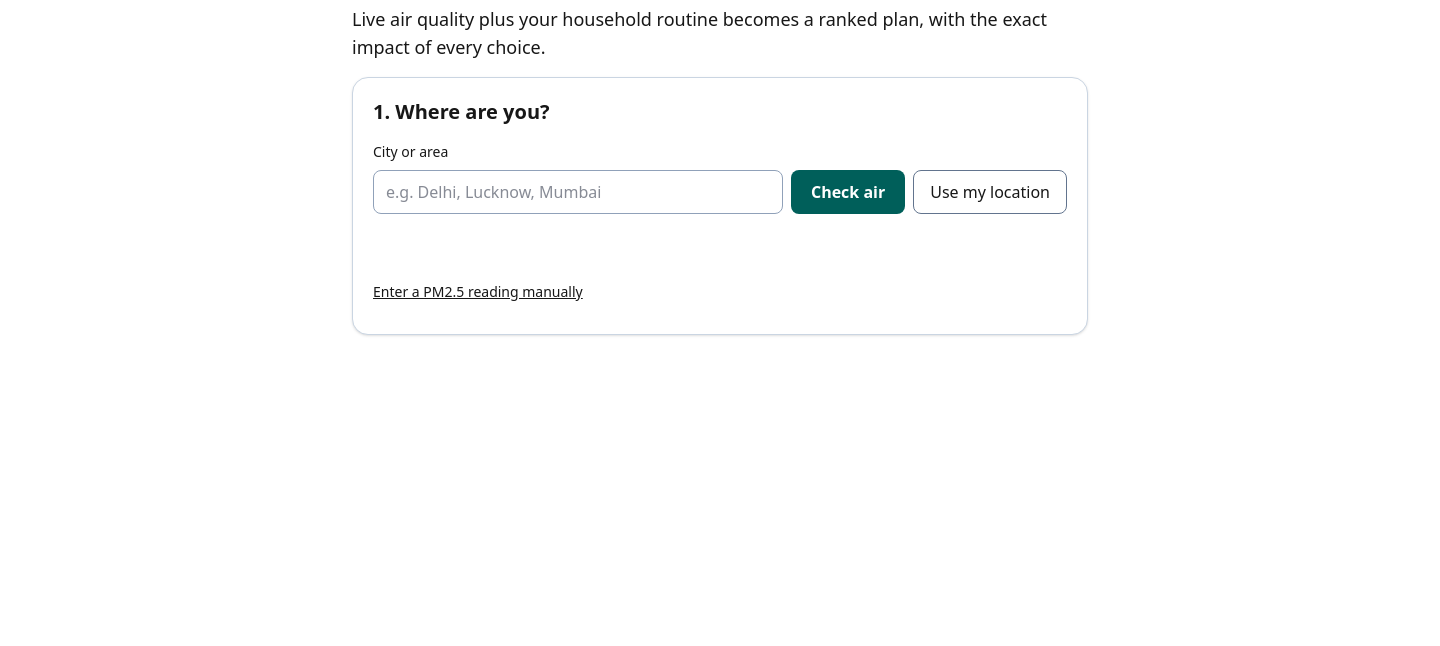
Test: household form › fills the form from a free-text description
Type "Delhi" into the field labelled "City or area" at (578, 192), box [373,170,783,214]
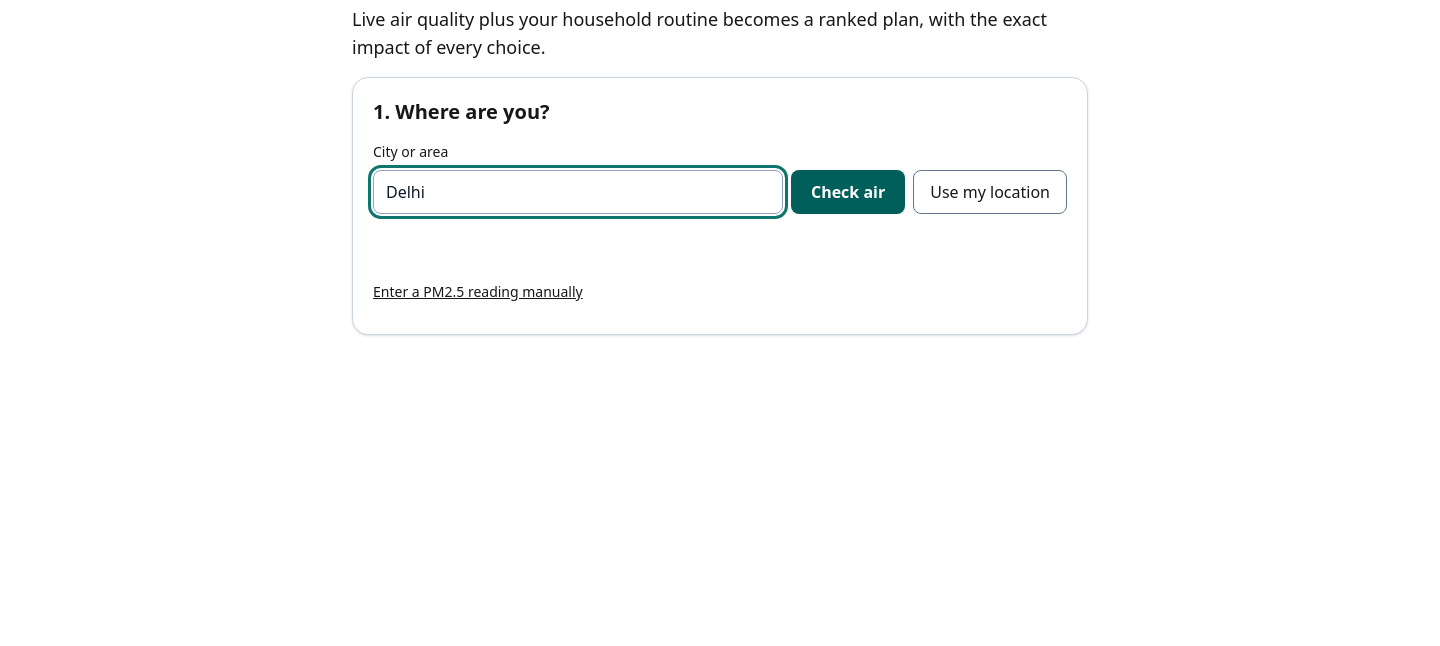
Click the button "Check air" at (848, 192), box [791,170,905,214]
(page scrolled)
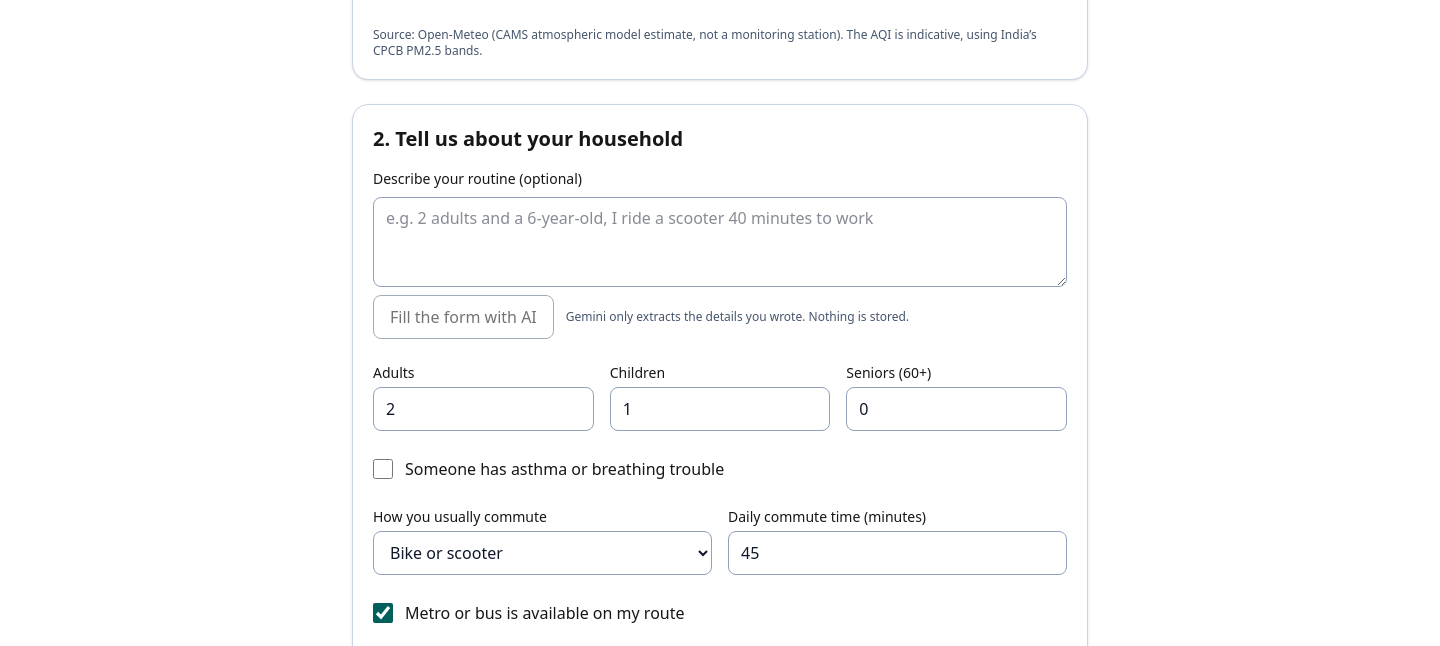
Type "two adults and four kids" into the text box labelled "Describe your routine (optional)" at (720, 242), box [373,196,1067,286]
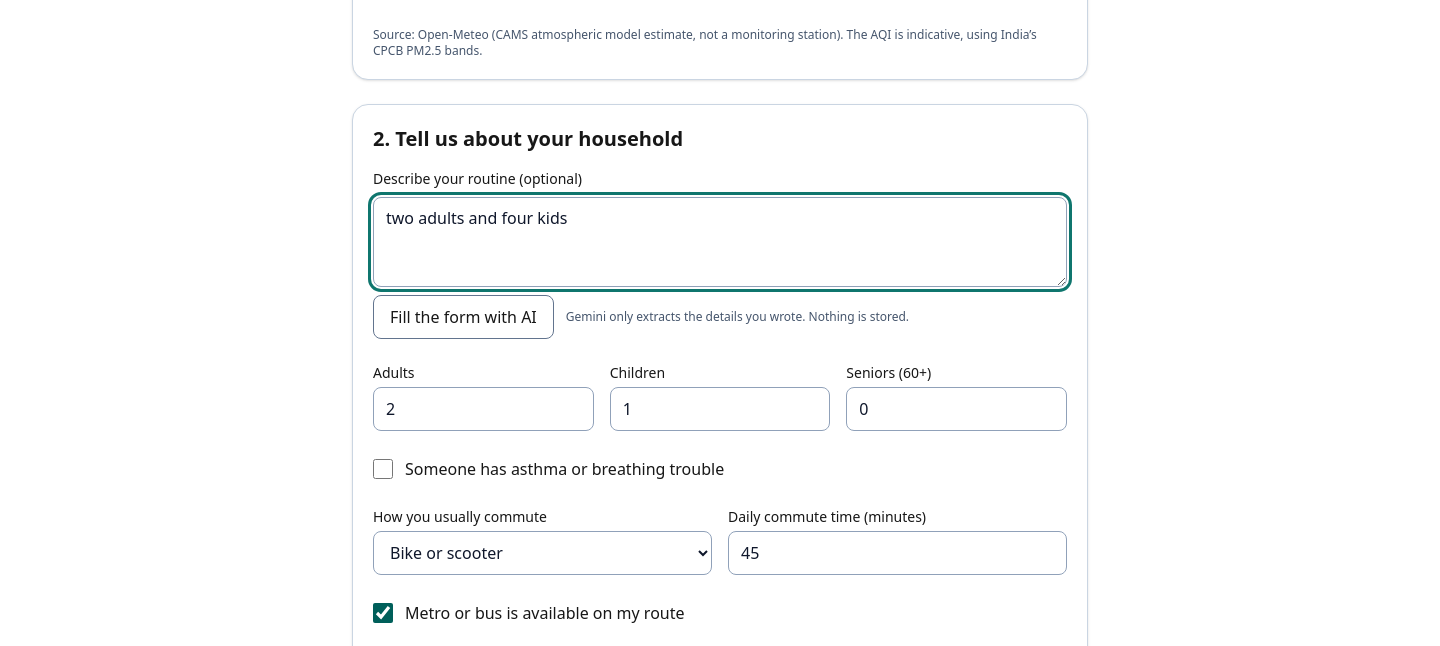
Click the button "Fill the form with AI" at (463, 316), box [373,294,554,338]
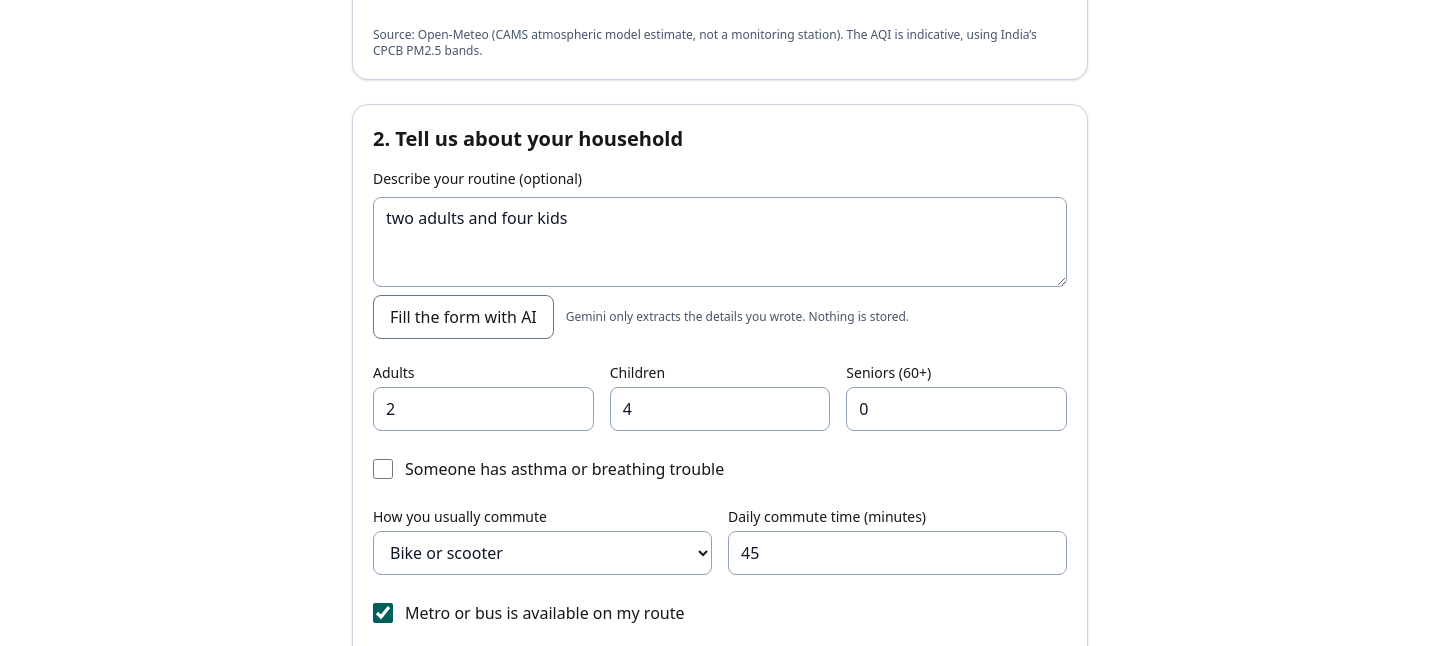
Result: the number field labelled "Children" holds "4" at [610,386,830,430]
